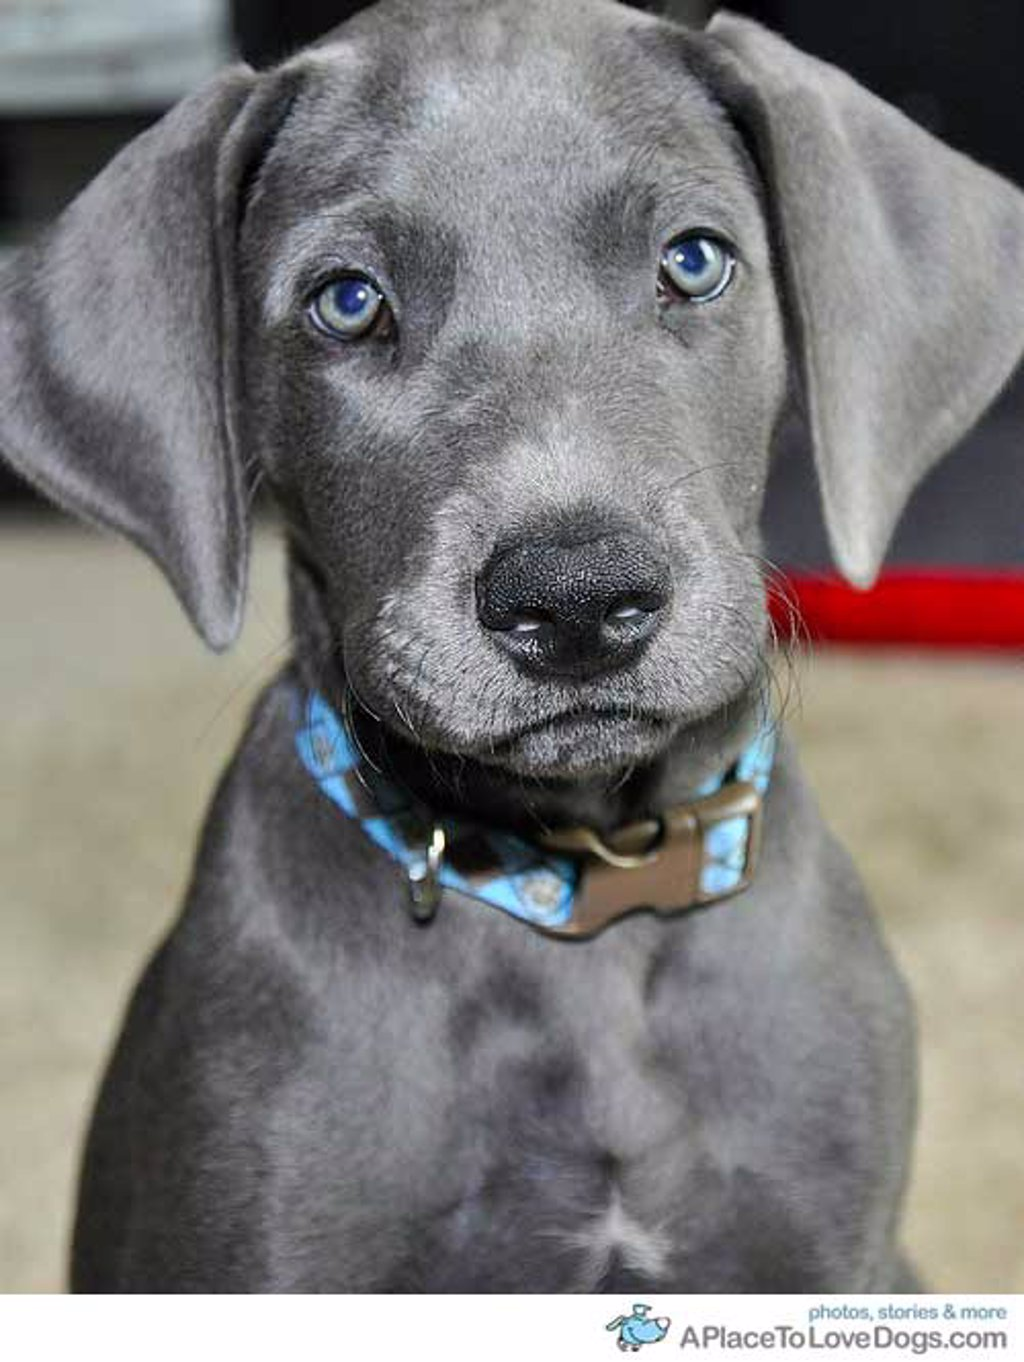dog: (12, 1, 1024, 1293)
